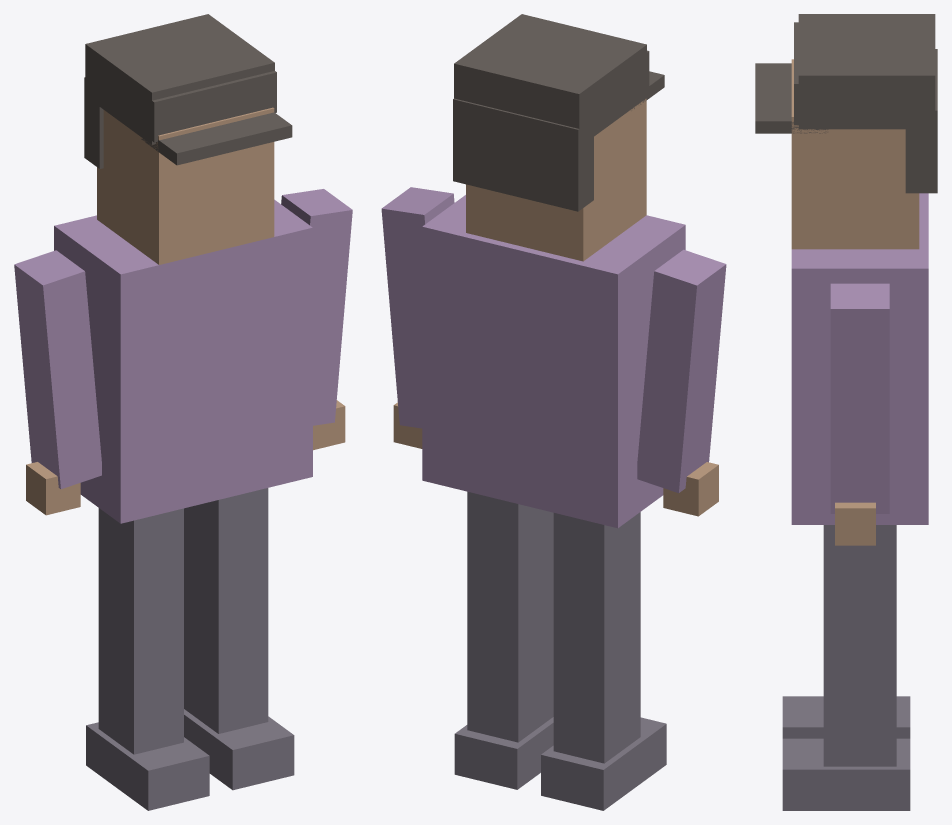
The model's file is idris.glb.
3 views of the same model, side by side, from view 1: azimuth 30°, elevation 25°; view 2: azimuth 150°, elevation 25°; view 3: azimuth 270°, elevation 25° (orthographic). The views are drawn at different scales.
Parts seen in each view (by area): view 1: p4, p1, p3, p9, p5, p10, p7, p0, p13, p2, p12, p6 (+2 smaller); view 2: p4, p1, p3, p10, p5, p9, p11, p7, p0, p2, p13, p6 (+1 smaller); view 3: p4, p3, p10, p9, p7, p2, p12, p13, p0, p11, p8.
Boxes of the visible parts, x1,y1,x2,y2 form: p4: (54, 199, 312, 523); p1: (98, 508, 183, 754); p3: (184, 488, 268, 733); p9: (97, 107, 274, 264); p5: (14, 250, 101, 489); p10: (85, 14, 274, 144); p7: (281, 189, 352, 425); p0: (86, 722, 209, 810); p13: (85, 53, 276, 142); p2: (184, 709, 294, 790); p12: (141, 112, 292, 165); p6: (26, 462, 80, 515); p4: (422, 195, 685, 528); p1: (553, 512, 640, 763); p3: (467, 491, 553, 742); p10: (454, 14, 646, 146); p5: (637, 249, 726, 493); p9: (466, 98, 646, 261); p11: (453, 98, 593, 211); p7: (381, 187, 454, 428); p0: (541, 717, 666, 810); p2: (454, 717, 553, 789); p13: (454, 50, 649, 138); p6: (663, 462, 718, 516); p4: (791, 193, 928, 524); p3: (823, 525, 896, 766); p10: (798, 14, 935, 129); p9: (791, 59, 919, 249); p7: (830, 283, 889, 513); p2: (782, 738, 910, 810); p12: (755, 63, 828, 133); p13: (794, 22, 935, 125); p0: (782, 696, 910, 738); p11: (905, 49, 937, 193); p8: (835, 502, 875, 545).
Bounding box in the file's own units: 0.8063 × 1.76 × 0.4.
